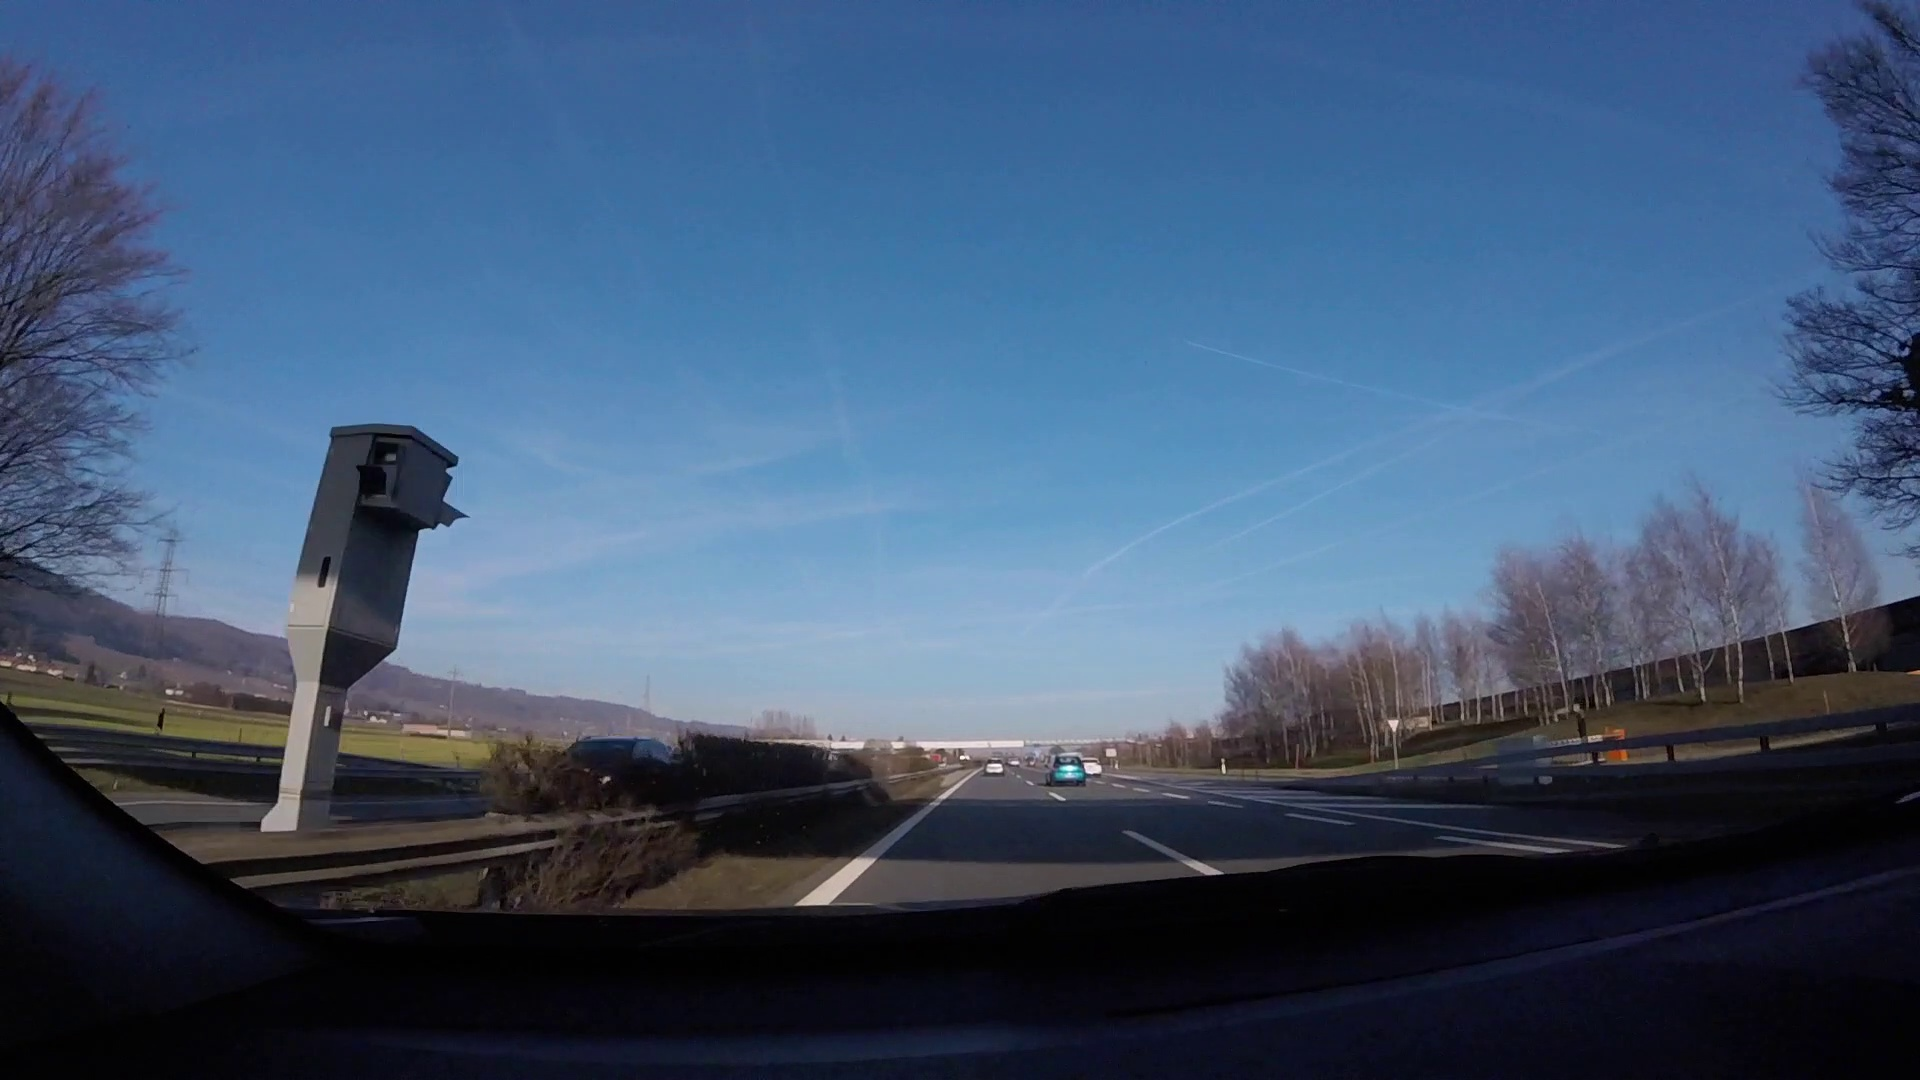radar: (272, 422, 473, 804)
